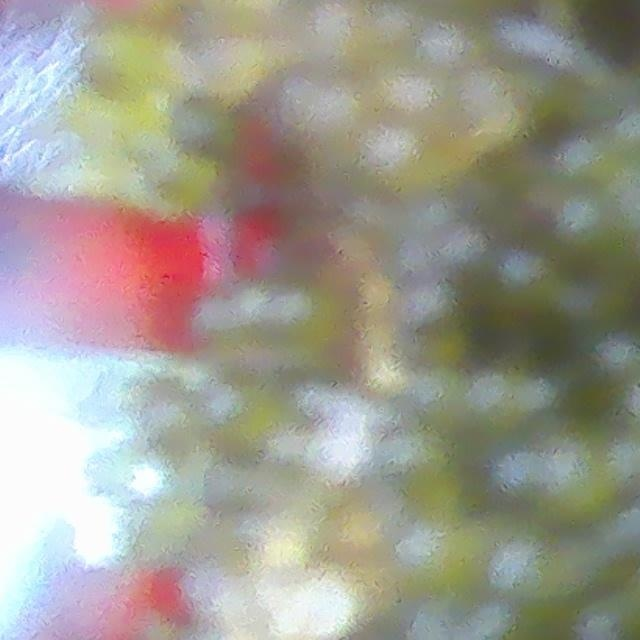SeaGrape: (266, 570, 350, 640), (302, 426, 358, 482)
